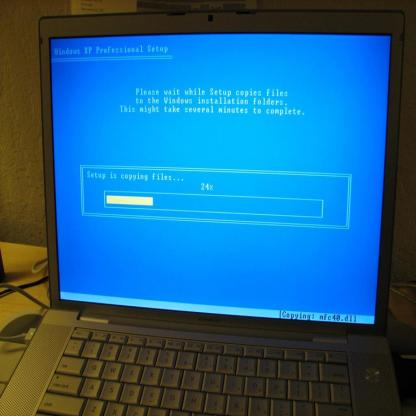board: (10, 3, 409, 416)
